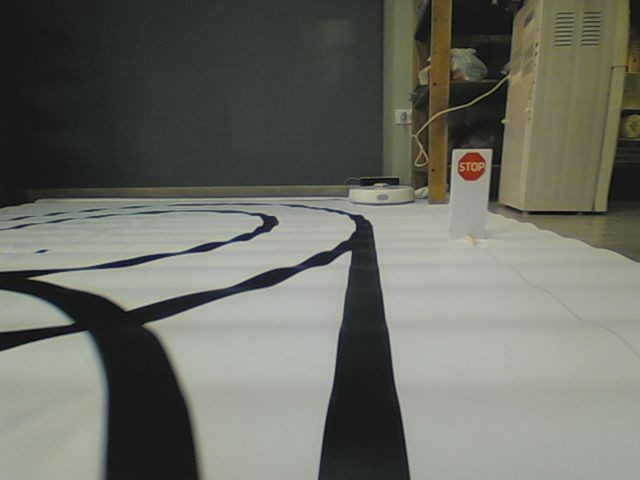Stop: (457, 152, 487, 182)
